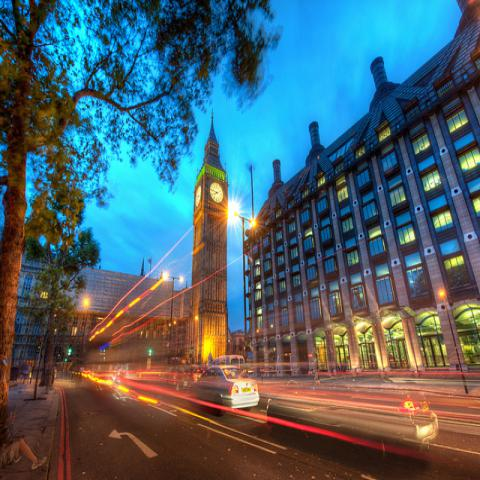car: (267, 372, 439, 451), (189, 365, 260, 416)
